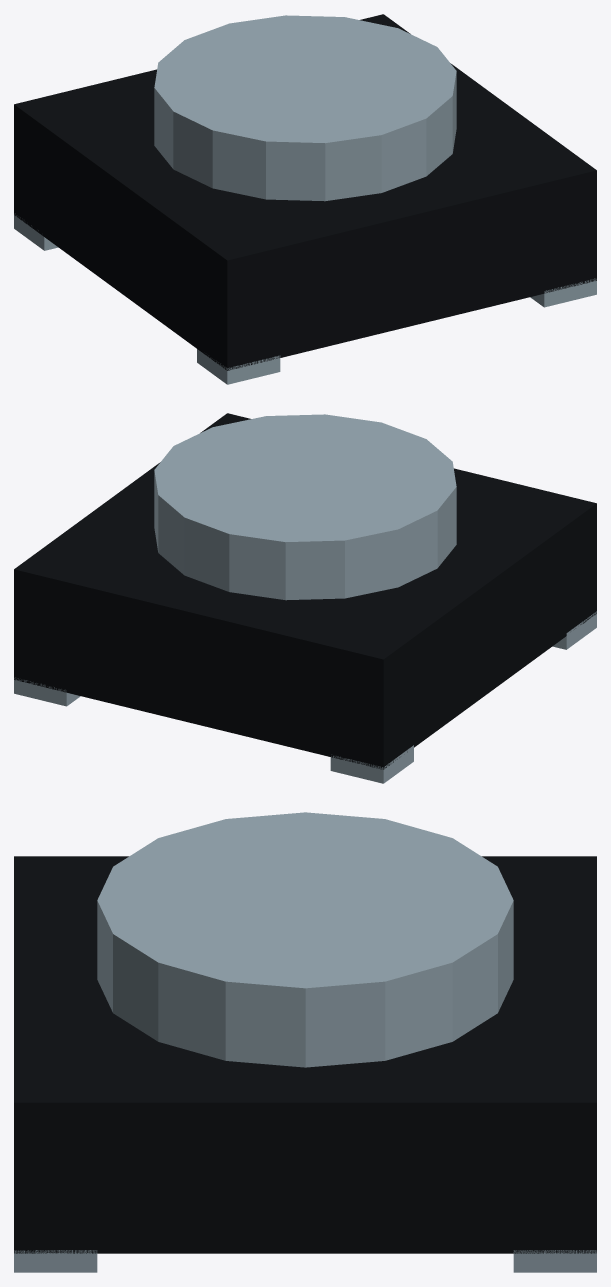
3 renders of one model, top to bottom at view 1: azimuth 30°, elevation 25°; view 2: azimuth 150°, elevation 25°; view 3: azimuth 270°, elevation 25°, orthographic. The views are drawn at different scales.
Parts seen in each view (by area): view 1: Switch_Body, Tactile_Button, Switch_Pin (×3); view 2: Switch_Body, Tactile_Button, Switch_Pin (×3); view 3: Switch_Body, Tactile_Button, Switch_Pin (×2).
Boxes of the visible parts, box(x1,y1,x2,y2) form: Switch_Body: box(14, 14, 596, 370); Tactile_Button: box(154, 15, 456, 201); Switch_Pin (×3): box(14, 213, 596, 384); Switch_Body: box(14, 413, 596, 769); Tactile_Button: box(154, 414, 456, 600); Switch_Pin (×3): box(14, 611, 596, 783); Switch_Body: box(14, 856, 596, 1253); Tactile_Button: box(97, 812, 513, 1067); Switch_Pin (×2): box(14, 1250, 596, 1272).
Size of the model in its own units: 0.7 by 0.33 by 0.7.
